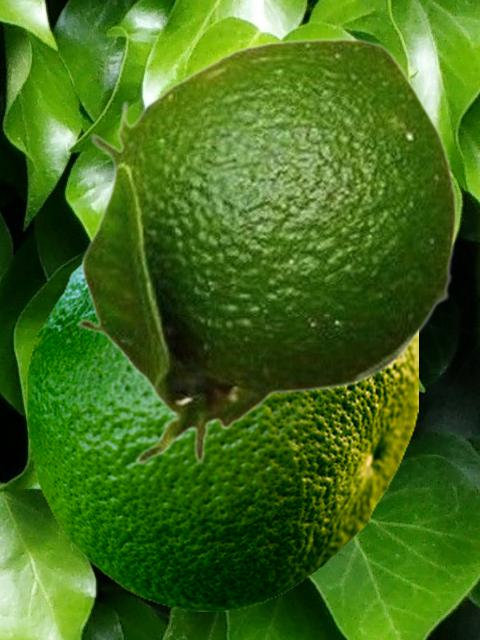dalandan: (75, 37, 457, 465), (26, 258, 417, 610)
